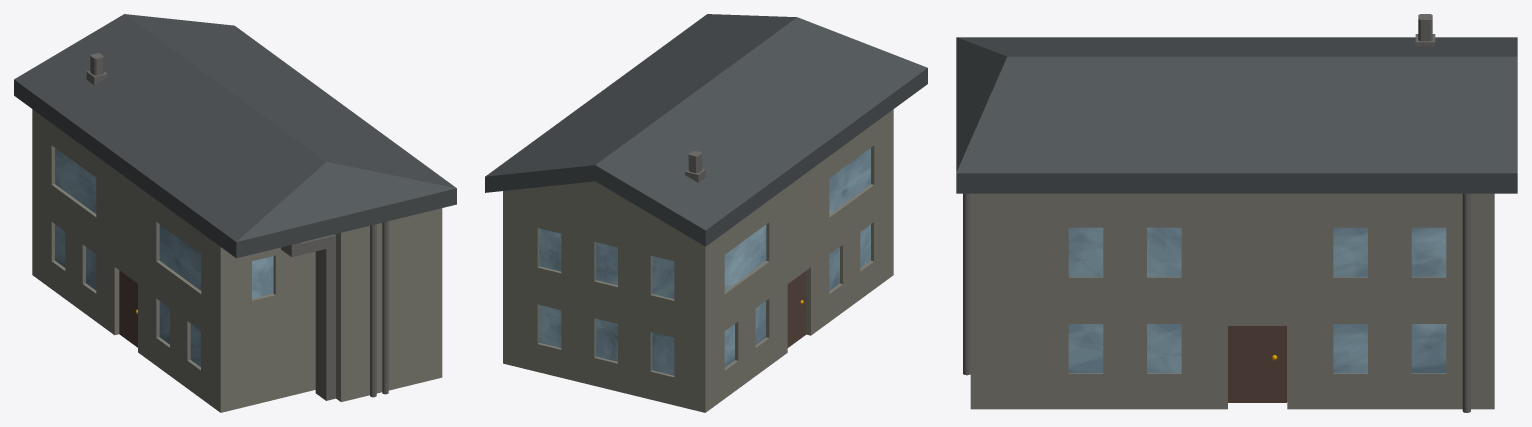
Rendered from TPCS_Hochhaus_001_V1.fbx.
3 views of the same model, side by side, from view 1: azimuth 30°, elevation 25°; view 2: azimuth 150°, elevation 25°; view 3: azimuth 270°, elevation 25° (orthographic). The views are drawn at different scales.
Visible parts, largest first — view 1: Cube.204; view 2: Cube.204; view 3: Cube.204.
Boxes of the visible parts, x1=… form: Cube.204: x1=14, y1=14, x2=456, y2=412; Cube.204: x1=485, y1=14, x2=927, y2=412; Cube.204: x1=956, y1=14, x2=1517, y2=412.
Size of the model in its own units: 609 by 607 by 1062.
